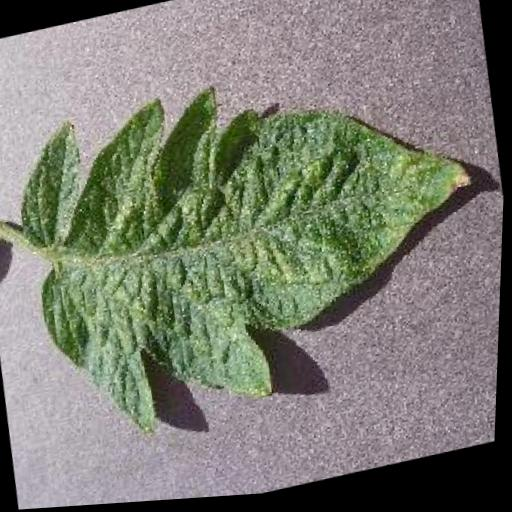Spider Mites: (3, 33, 510, 455)
